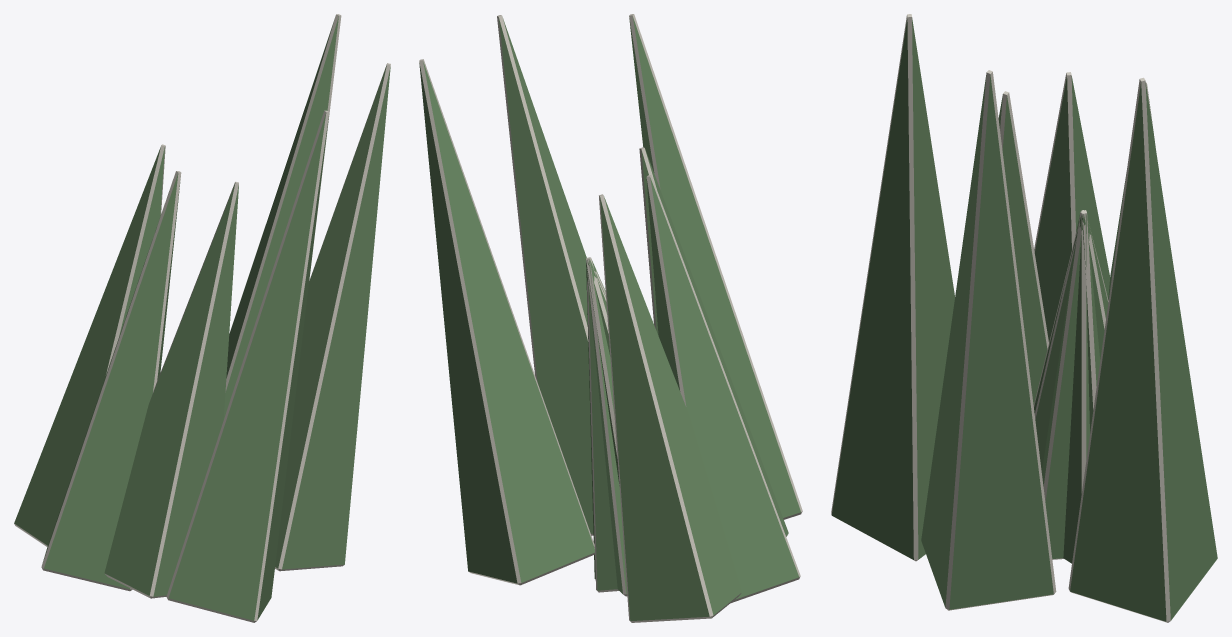
Rendered from foliage_grass_green.glb.
3 views of the same model, side by side, from view 1: azimuth 30°, elevation 25°; view 2: azimuth 150°, elevation 25°; view 3: azimuth 270°, elevation 25° (orthographic). The views are drawn at different scales.
Visible parts, largest first — view 1: scenery_leaf; view 2: scenery_leaf; view 3: scenery_leaf.
Boxes of the visible parts, x1,y1,x2,y2 form: scenery_leaf: (14,14,390,622); scenery_leaf: (419,14,802,622); scenery_leaf: (831,14,1217,622).
Bounding box in the file's own units: 0.7028 × 0.9655 × 0.58.
